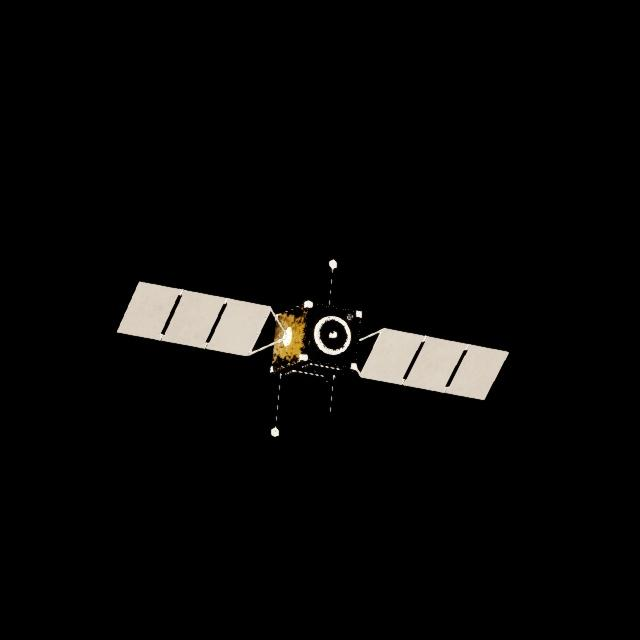satellite: (117, 282, 509, 401)
